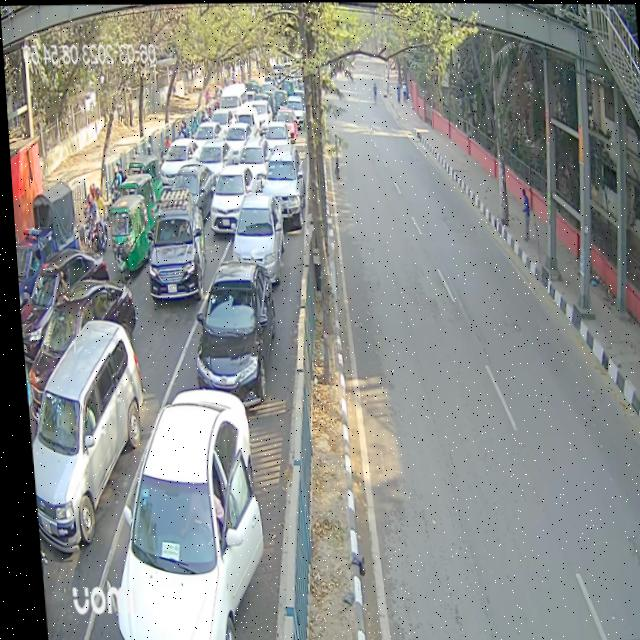cng: (102, 188, 148, 284), (114, 173, 155, 225), (123, 152, 160, 193)
